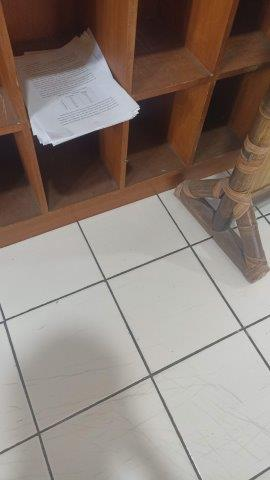kertas: (9, 31, 138, 144)
